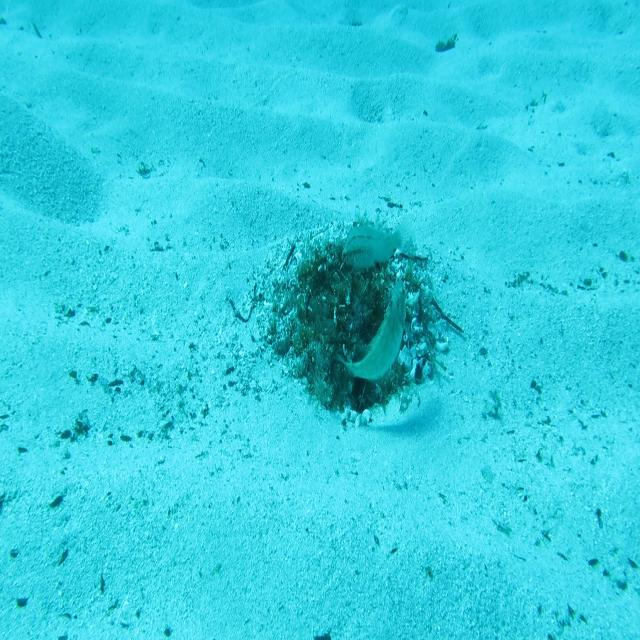GB: (330, 276, 408, 386)
core_nest: (325, 257, 375, 309)
female: (341, 212, 418, 272)
nest: (246, 215, 456, 447)
vegetation: (434, 34, 460, 55)
